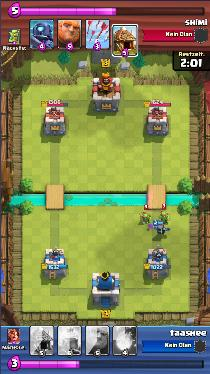ally_mini_pekka: (152, 223, 170, 234)
enemy_spear_goblin: (138, 210, 151, 224), (159, 210, 169, 223)
